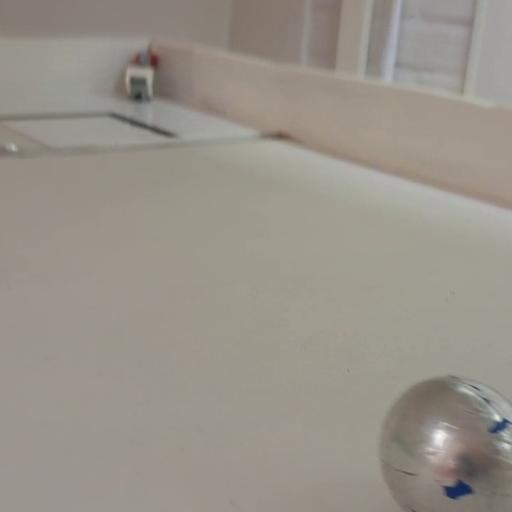alive: (378, 378, 510, 508)
